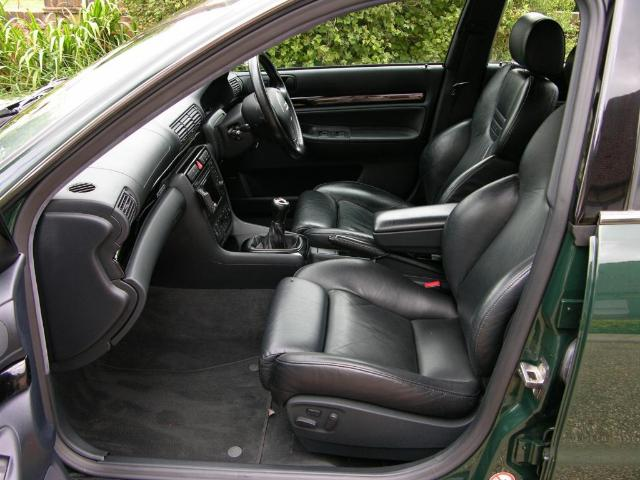Seatbelt: (442, 33, 482, 130)
